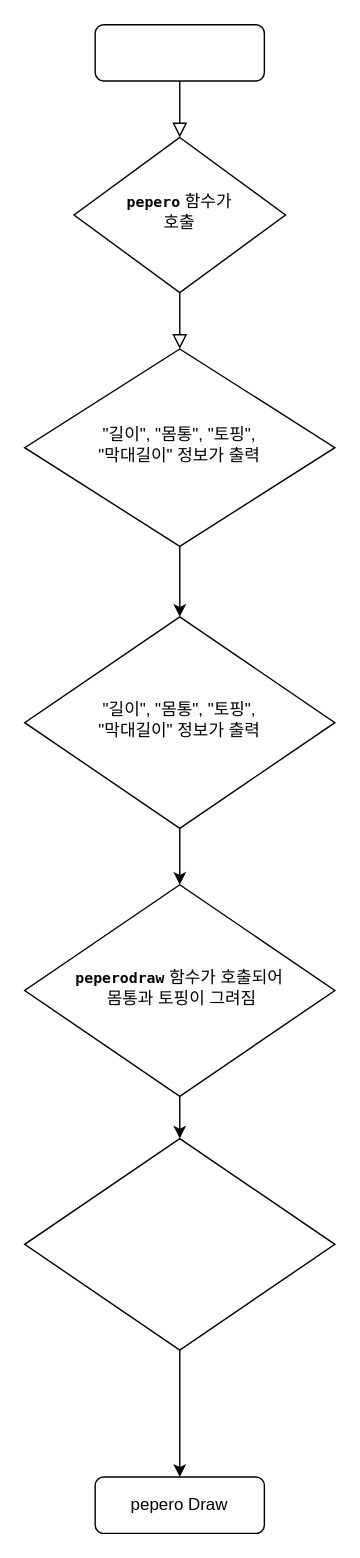
Some shapes in this 360 by 1558 pixel diagram are drawn without their labels. The shapes that lost their labels are listed below. From the top down, each one's centre as x and y in pixels, then its label:
the point at 179,52: Run
the point at 179,1243: peperoStick 함수가 호출되어막대(빼빼로 손잡이)가 그려짐 pepero 함수의 호출이 끝나고 줄 바꿈이 출력됩니다.
